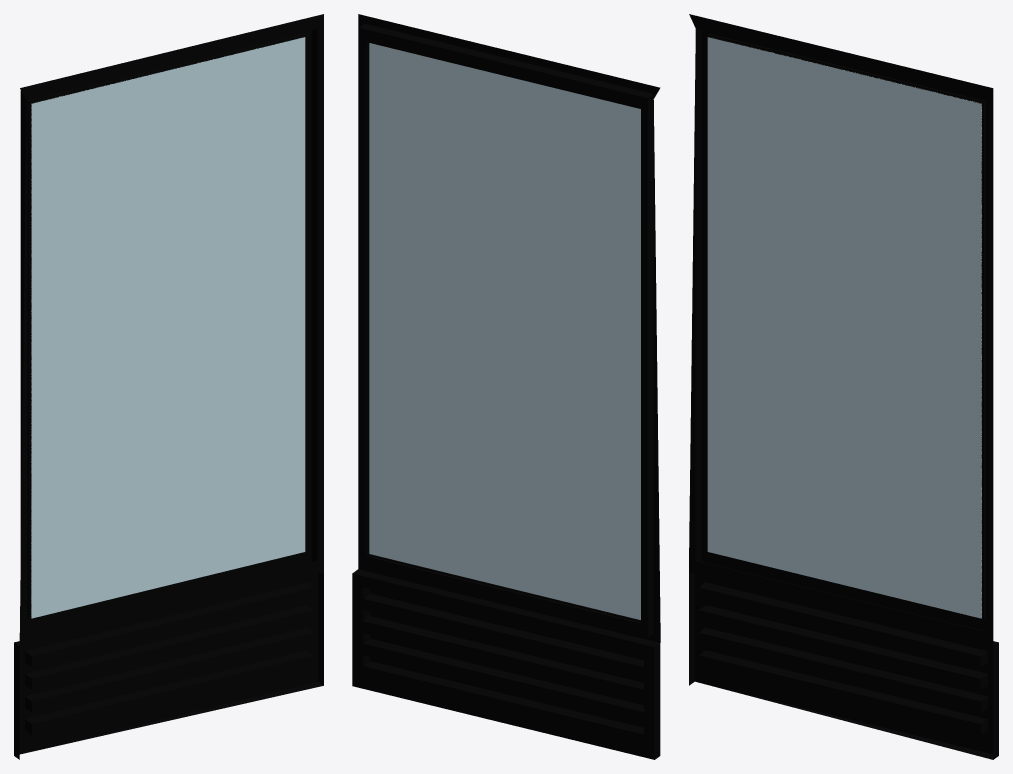
Rendered from Porta03Fechada.glb.
The picture shows the model from 3 angles, left to right: view 1: azimuth 30°, elevation 25°; view 2: azimuth 150°, elevation 25°; view 3: azimuth 330°, elevation 25°; orthographic projection.
Parts seen in each view (by area): view 1: Porta3F; view 2: Porta3F; view 3: Porta3F.
Part boxes in pixels (<box>): Porta3F: <box>14,14,323,759</box>; Porta3F: <box>352,14,660,759</box>; Porta3F: <box>689,14,998,759</box>.
Size of the model in its own units: 0.9725 by 2.05 by 0.0388.
